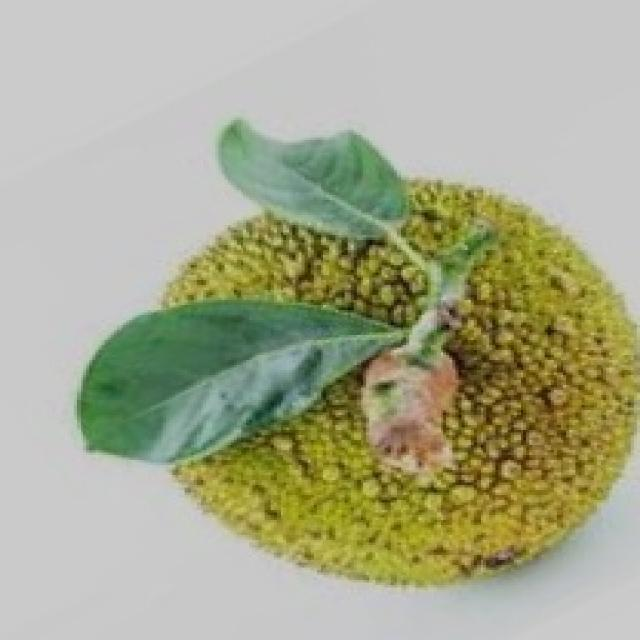Fruit: (381, 192, 640, 625)
